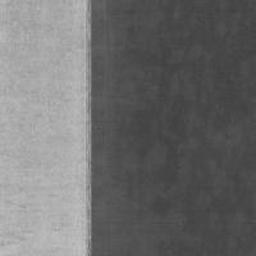Welding line: (84, 0, 92, 256)
